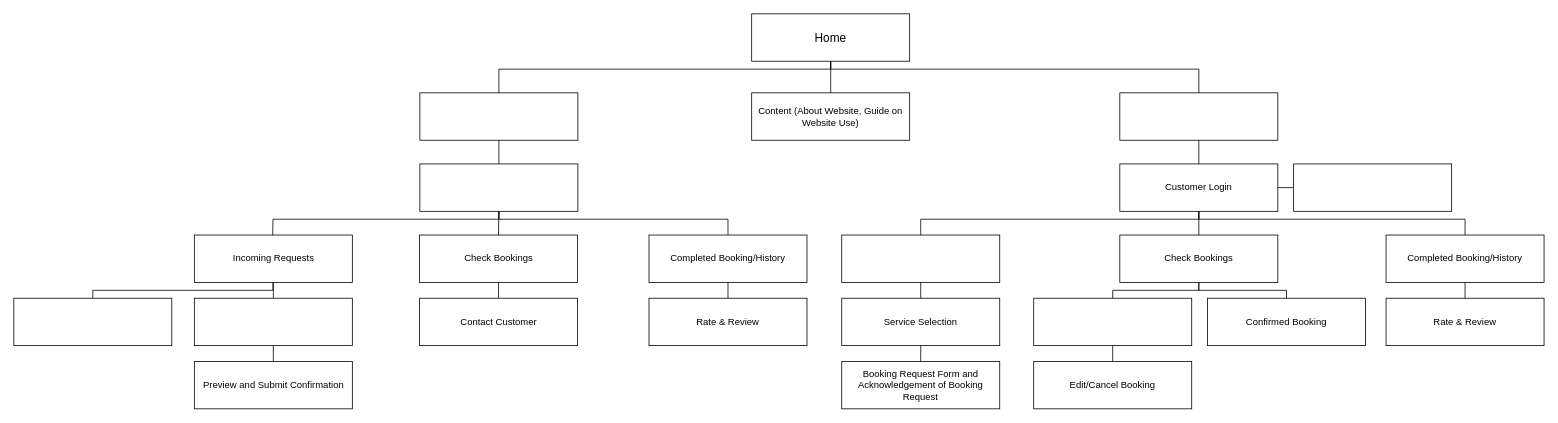
The diagram is 1558 pixels wide and 423 high, and some of its shapes have lost their labels. The centre of each missing label's shape, as x and y in pixels:
"Book a Repair" belongs at (920,258).
"Contractor/Service Provider Login" belongs at (498,187).
"Contractor/Service Provider Sign Up" belongs at (498,116).
"Customer Sign Up" belongs at (1198,116).
"Invalid Postcode" belongs at (1372,187).
"Pending Booking" belongs at (1112,321).
"Reject Request" belongs at (92,321).
"Submit Quotation" belongs at (273,321).
